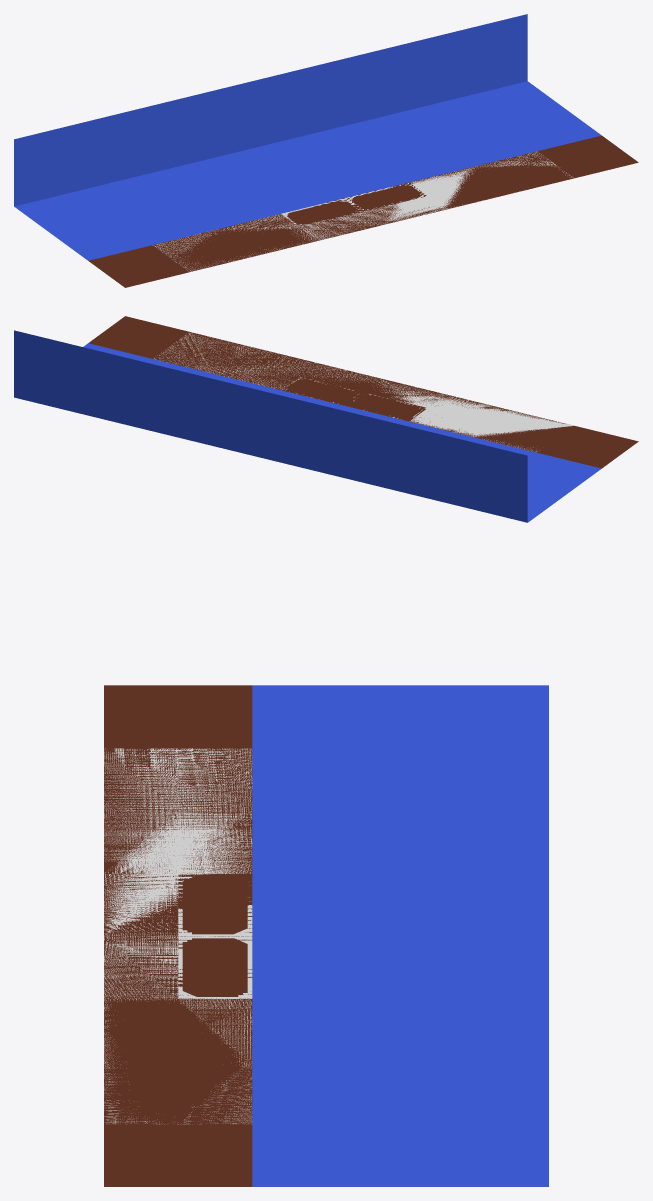
File: StageExport 1-5.fbx
The picture shows the model from 3 angles, top to bottom: view 1: azimuth 30°, elevation 25°; view 2: azimuth 150°, elevation 25°; view 3: azimuth 270°, elevation 25°; orthographic projection. The views are drawn at different scales.
Parts seen in each view (by area): view 1: Stage_Main, Stage_DiceBoard, Stage_DiceBoardComplete, Stage_DiceTrays; view 2: Stage_Main, Stage_DiceBoard, Stage_DiceBoardComplete; view 3: Stage_Main, Stage_DiceBoard, Stage_DiceBoardComplete, Stage_DiceTrays.
Boxes of the visible parts, bbox=[...] form: Stage_Main: bbox=[14, 14, 601, 260]; Stage_DiceBoard: bbox=[88, 135, 638, 287]; Stage_DiceBoardComplete: bbox=[152, 151, 573, 271]; Stage_DiceTrays: bbox=[281, 183, 426, 226]; Stage_Main: bbox=[14, 330, 601, 522]; Stage_DiceBoard: bbox=[88, 316, 638, 468]; Stage_DiceBoardComplete: bbox=[154, 332, 574, 451]; Stage_Main: bbox=[252, 685, 548, 1186]; Stage_DiceBoard: bbox=[104, 685, 252, 1186]; Stage_DiceBoardComplete: bbox=[104, 748, 252, 1124]; Stage_DiceTrays: bbox=[178, 873, 252, 998].
Bounding box in the file's own units: 800 × 300 × 111.
